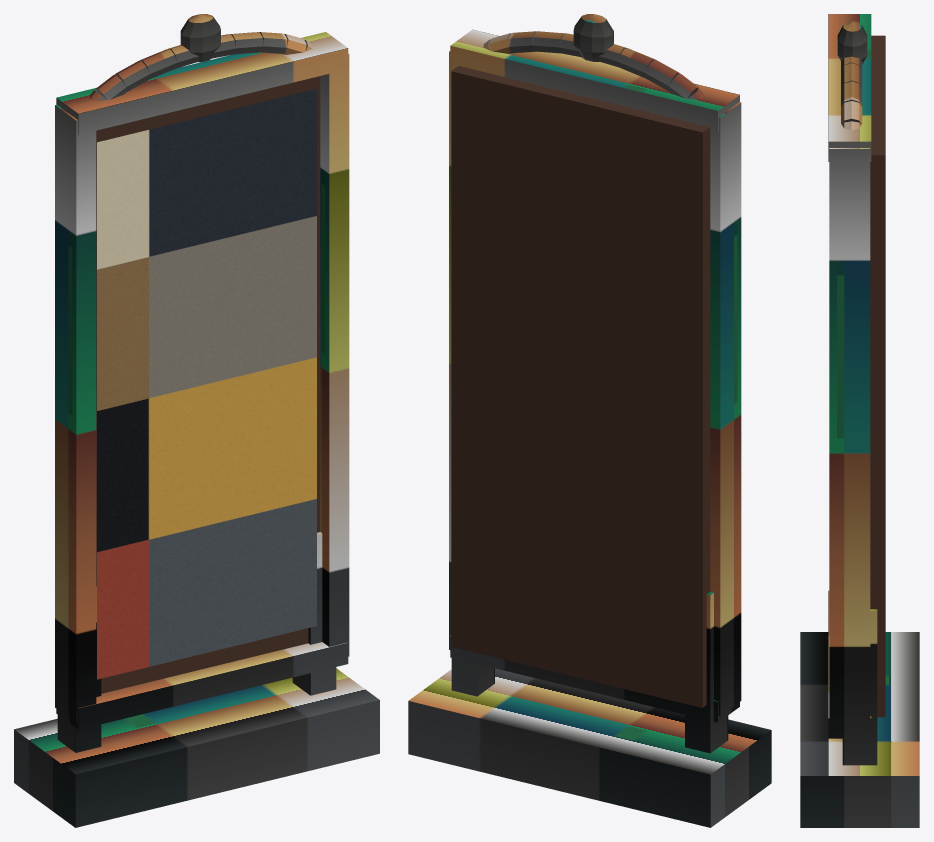
The model's file is EVHalloween_Decor_HauntedMirror.fbx.
3 views of the same model, side by side, from view 1: azimuth 30°, elevation 25°; view 2: azimuth 150°, elevation 25°; view 3: azimuth 270°, elevation 25° (orthographic). The views are drawn at different scales.
Visible parts, largest first — view 1: EVHalloween_Decor_PumpkinOrange; view 2: EVHalloween_Decor_PumpkinOrange; view 3: EVHalloween_Decor_PumpkinOrange.
Boxes of the visible parts, bbox=[...] form: EVHalloween_Decor_PumpkinOrange: bbox=[14, 14, 379, 827]; EVHalloween_Decor_PumpkinOrange: bbox=[408, 14, 771, 827]; EVHalloween_Decor_PumpkinOrange: bbox=[800, 14, 919, 827].
Bounding box in the file's own units: 83 × 197 × 29.
